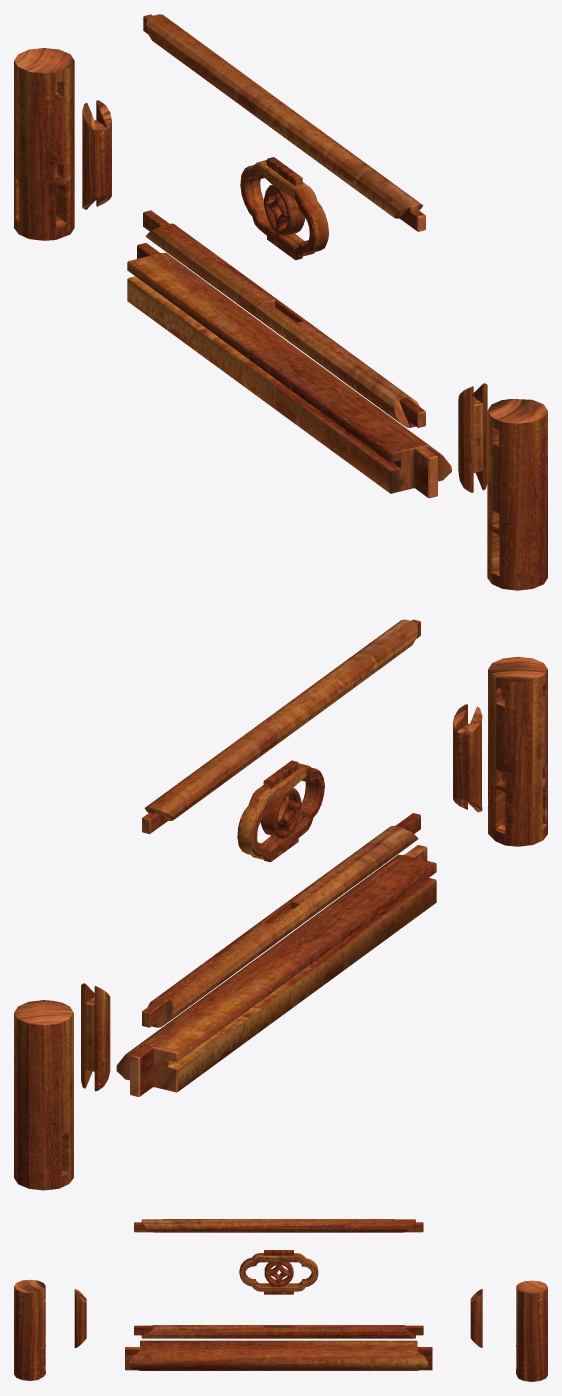
Rendered from SJ_J_motou_1_01.FBX.
The picture shows the model from 3 angles, top to bottom: view 1: azimuth 30°, elevation 25°; view 2: azimuth 150°, elevation 25°; view 3: azimuth 270°, elevation 25°; orthographic projection. The views are drawn at different scales.
Visible parts, largest first — view 1: SJ_J_motou_1_01, SJ_J_tui_01, SJ_J_tui_02, SJ_J_cehengzhang_1_005, SJ_J_cehengzhang_1_006, SJ_J_hua_1_009, SJ_J_shugan_1_011, SJ_J_shugan_1_012; view 2: SJ_J_motou_1_01, SJ_J_tui_01, SJ_J_tui_02, SJ_J_cehengzhang_1_005, SJ_J_cehengzhang_1_006, SJ_J_hua_1_009, SJ_J_shugan_1_012, SJ_J_shugan_1_011; view 3: SJ_J_motou_1_01, SJ_J_cehengzhang_1_006, SJ_J_cehengzhang_1_005, SJ_J_tui_01, SJ_J_tui_02, SJ_J_hua_1_009, SJ_J_shugan_1_011, SJ_J_shugan_1_012.
Part boxes in pixels (x1=…): SJ_J_motou_1_01: x1=127, y1=243, x2=451, y2=498; SJ_J_tui_01: x1=14, y1=48, x2=74, y2=240; SJ_J_tui_02: x1=487, y1=399, x2=547, y2=590; SJ_J_cehengzhang_1_005: x1=143, y1=14, x2=425, y2=231; SJ_J_cehengzhang_1_006: x1=143, y1=210, x2=425, y2=427; SJ_J_hua_1_009: x1=240, y1=157, x2=328, y2=260; SJ_J_shugan_1_011: x1=458, y1=383, x2=487, y2=492; SJ_J_shugan_1_012: x1=82, y1=100, x2=111, y2=209; SJ_J_motou_1_01: x1=116, y1=845, x2=436, y2=1096; SJ_J_tui_01: x1=14, y1=1000, x2=73, y2=1190; SJ_J_tui_02: x1=488, y1=656, x2=547, y2=846; SJ_J_cehengzhang_1_005: x1=142, y1=619, x2=420, y2=834; SJ_J_cehengzhang_1_006: x1=142, y1=813, x2=420, y2=1027; SJ_J_hua_1_009: x1=237, y1=760, x2=324, y2=862; SJ_J_shugan_1_012: x1=81, y1=983, x2=110, y2=1091; SJ_J_shugan_1_011: x1=453, y1=704, x2=482, y2=812; SJ_J_motou_1_01: x1=125, y1=1340, x2=432, y2=1370; SJ_J_cehengzhang_1_006: x1=134, y1=1325, x2=423, y2=1338; SJ_J_cehengzhang_1_005: x1=134, y1=1219, x2=423, y2=1232; SJ_J_tui_01: x1=516, y1=1280, x2=547, y2=1381; SJ_J_tui_02: x1=14, y1=1279, x2=45, y2=1380; SJ_J_hua_1_009: x1=239, y1=1250, x2=318, y2=1294; SJ_J_shugan_1_011: x1=74, y1=1289, x2=86, y2=1348; SJ_J_shugan_1_012: x1=470, y1=1289, x2=482, y2=1347.
Size of the model in its own units: 4.27 by 21.59 by 67.56.
2 materials, 2 textured.
